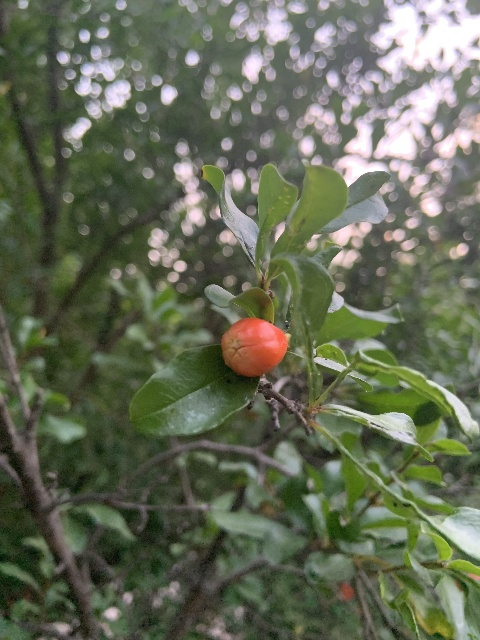bud: (221, 317, 288, 377)
